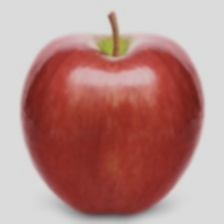apple: (37, 15, 182, 180)
